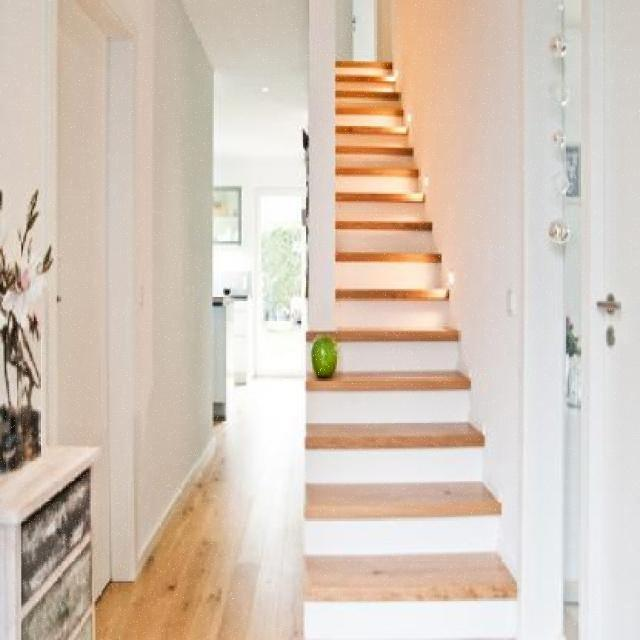stair: (320, 44, 524, 632)
